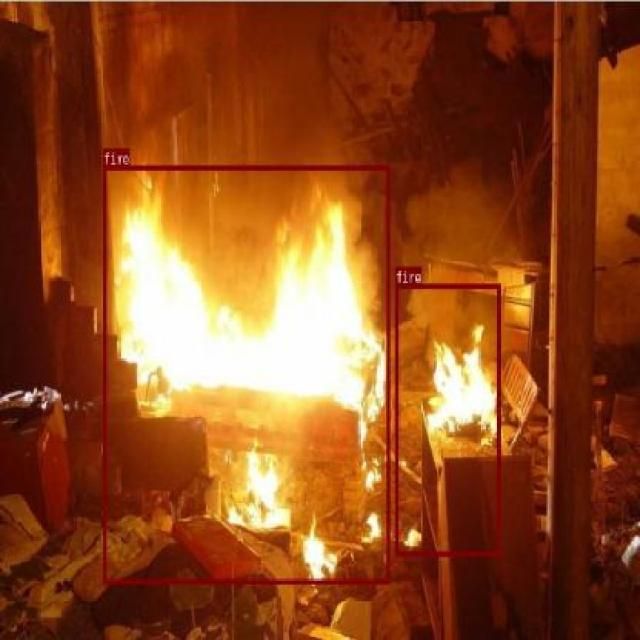Fire: (102, 164, 390, 584), (394, 282, 500, 556)
